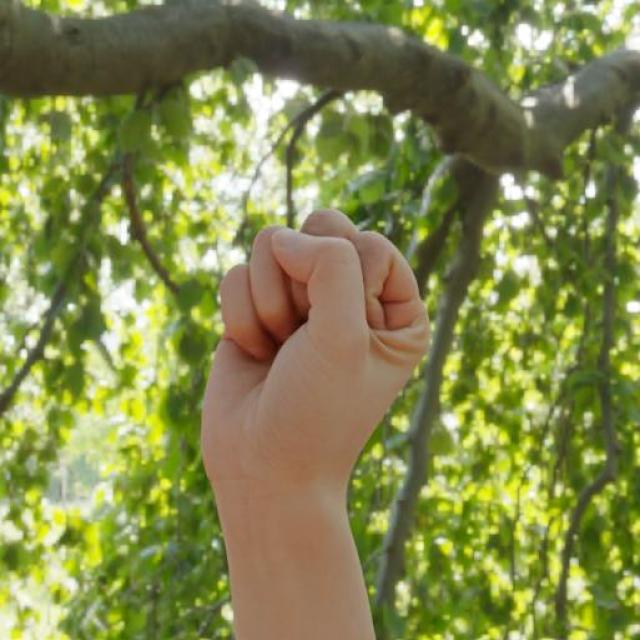S: (195, 200, 433, 500)
